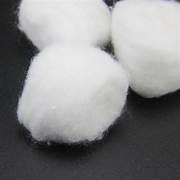cotton: (17, 0, 127, 142), (17, 45, 127, 142), (112, 0, 179, 97), (19, 0, 110, 49), (103, 0, 114, 7)
